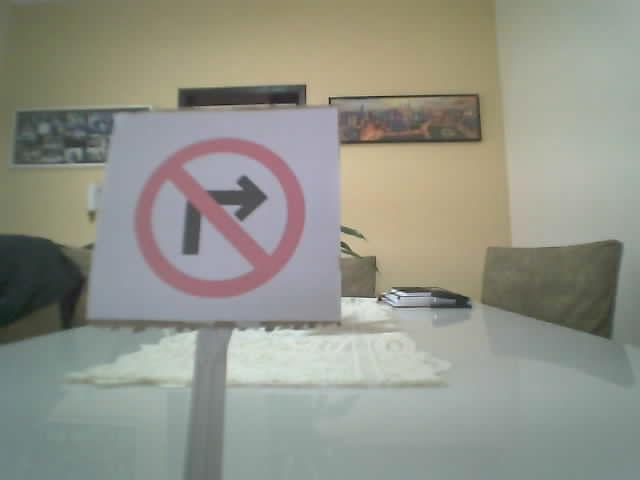R-4b_proibido-direita: (133, 136, 305, 298)
